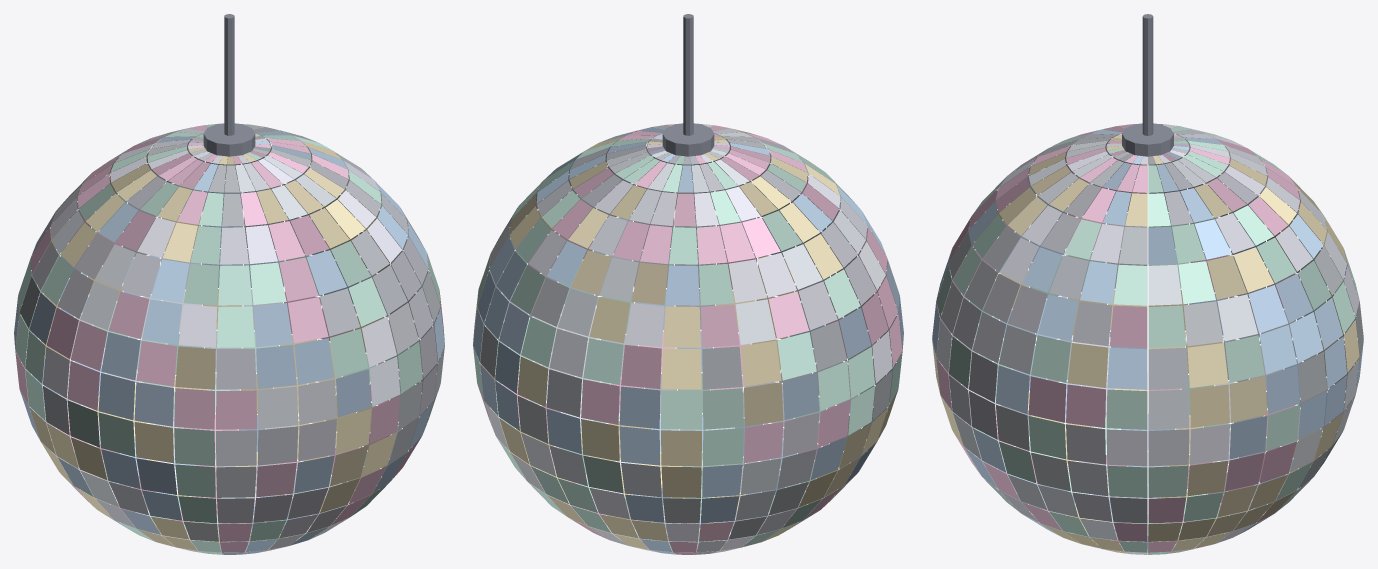
The model's file is disco.glb.
The picture shows the model from 3 angles, left to right: view 1: azimuth 30°, elevation 25°; view 2: azimuth 150°, elevation 25°; view 3: azimuth 270°, elevation 25°; orthographic projection.
Parts seen in each view (by area): view 1: DiscoBall; view 2: DiscoBall; view 3: DiscoBall.
Part boxes in pixels (bbox=[...]): DiscoBall: bbox=[14, 14, 444, 554]; DiscoBall: bbox=[473, 14, 903, 554]; DiscoBall: bbox=[932, 14, 1363, 554].
Size of the model in its own units: 2 by 2.65 by 2.
2 materials, 2 textured.
